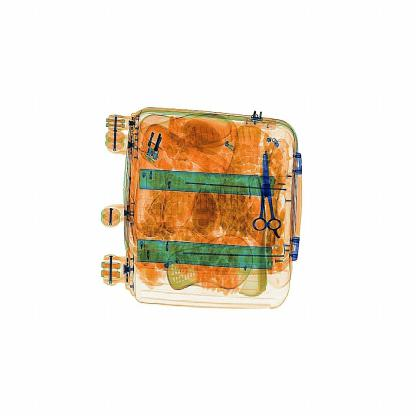gun: (248, 145, 288, 242)
